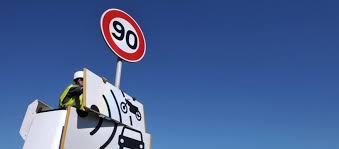Speed_limit_90km: (99, 7, 149, 64)
